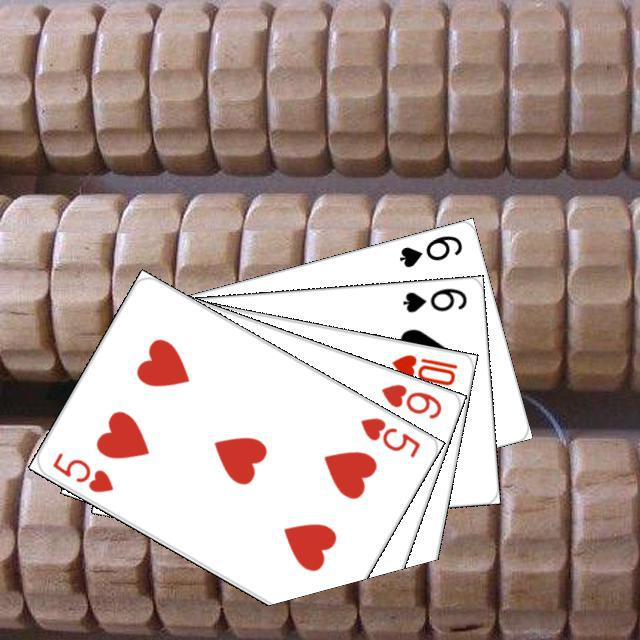10h: (386, 349, 460, 388)
5h: (47, 447, 115, 495), (355, 412, 422, 460)
6h: (376, 378, 444, 421)
6s: (394, 230, 464, 270), (398, 283, 468, 314)
